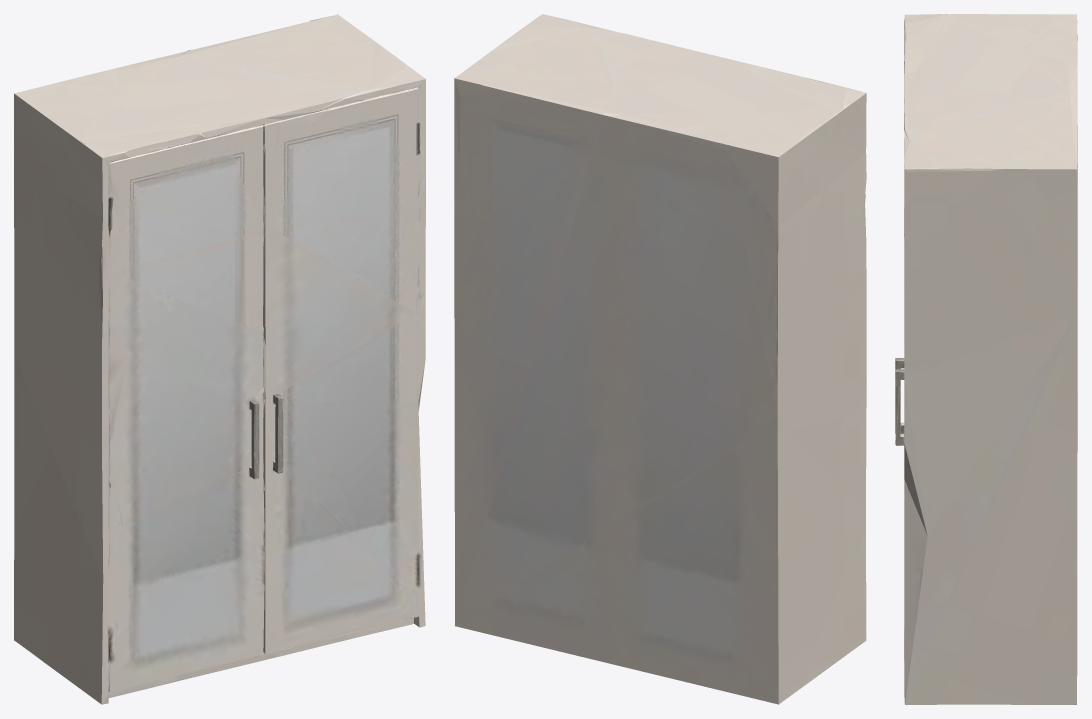
Rendered from wardrobe-v1.glb.
3 renders of one model, left to right at view 1: azimuth 30°, elevation 25°; view 2: azimuth 150°, elevation 25°; view 3: azimuth 270°, elevation 25°, orthographic. The views are drawn at different scales.
Bounding box in the file's own units: 1.3 × 2.11 × 0.6499.
1 material, 1 textured.
